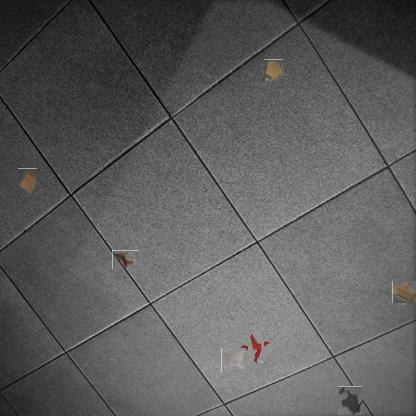dirty: (221, 348, 246, 372), (392, 280, 416, 304), (244, 335, 268, 359), (17, 168, 37, 195), (112, 250, 139, 269)
liquid: (338, 386, 362, 415), (263, 60, 284, 82)
